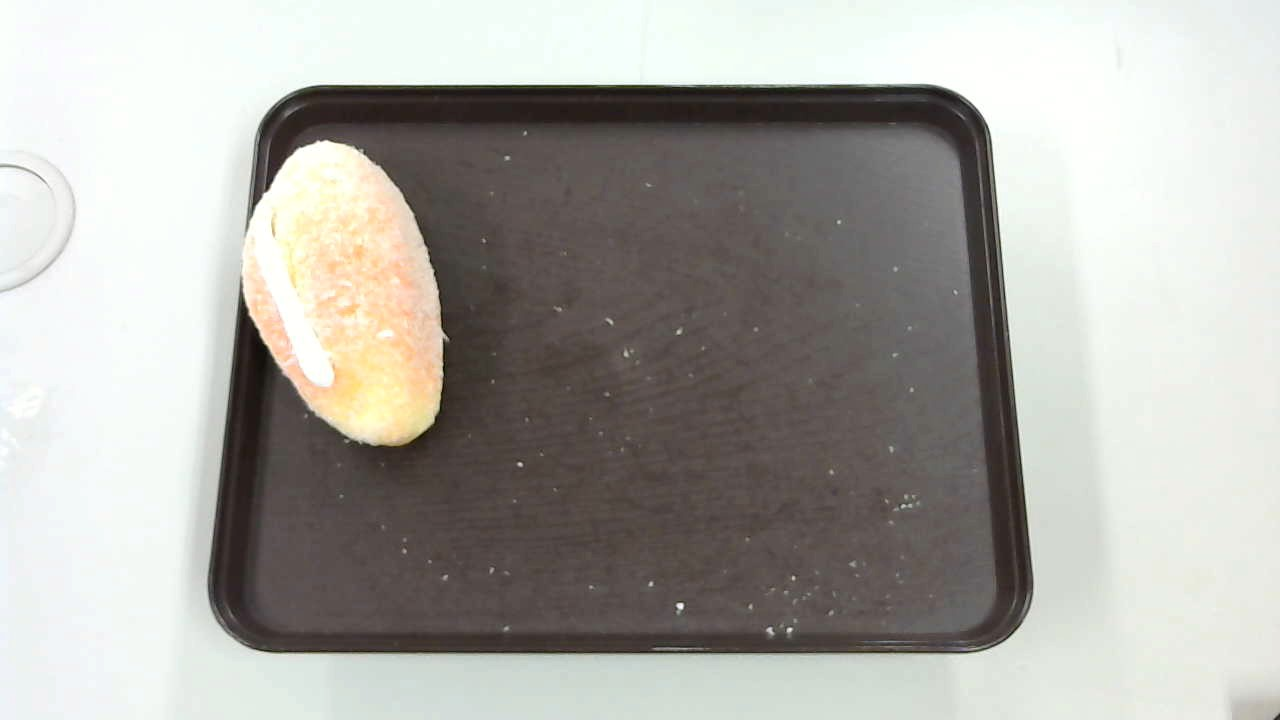coconut: (242, 138, 444, 445)
